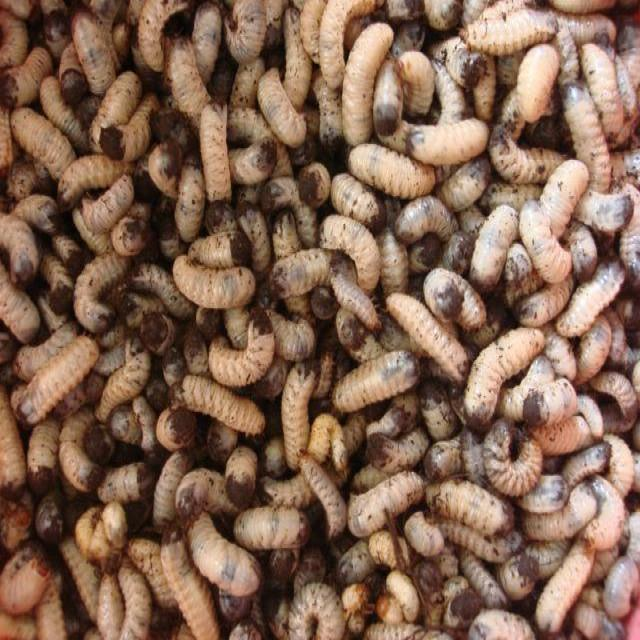Grub-Adult-: (461, 319, 553, 422), (12, 328, 104, 429), (179, 502, 264, 598), (168, 368, 267, 442), (338, 15, 389, 156), (326, 345, 424, 412), (188, 86, 238, 212), (344, 141, 441, 204), (319, 206, 380, 302), (166, 250, 254, 316), (203, 315, 282, 387), (252, 67, 312, 150), (480, 421, 546, 496), (271, 245, 356, 303), (494, 375, 583, 429), (277, 356, 315, 474), (234, 501, 311, 555), (406, 121, 490, 166)
